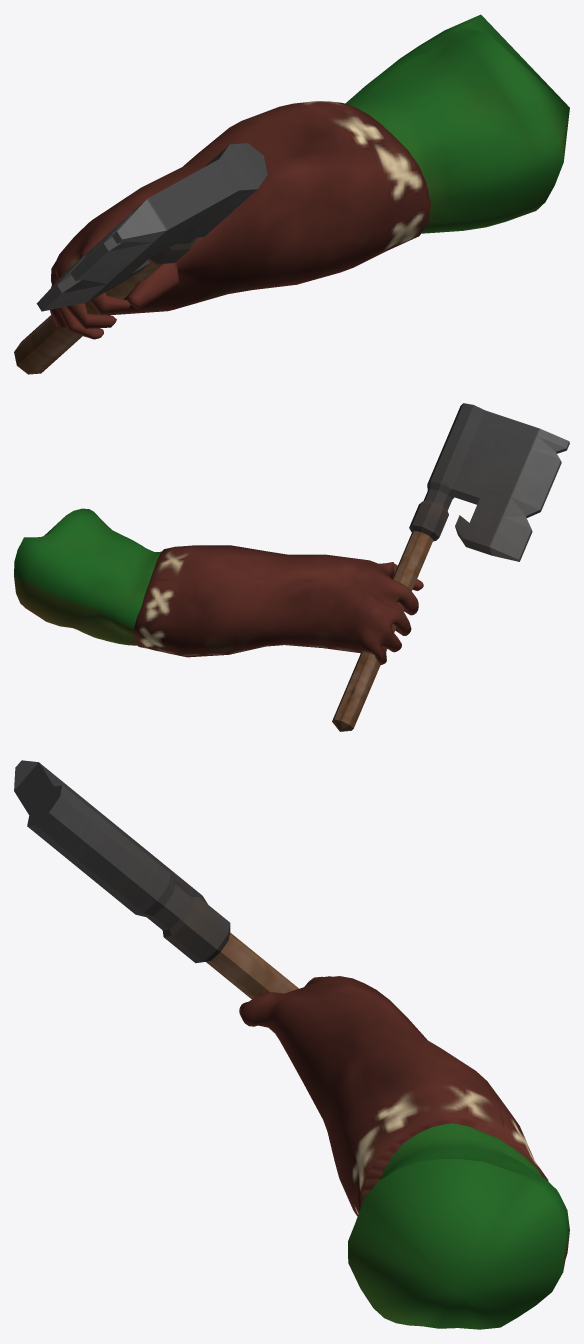
Rendered from orc_armr.obj.
3 renders of one model, top to bottom at view 1: azimuth 30°, elevation 25°; view 2: azimuth 150°, elevation 25°; view 3: azimuth 270°, elevation 25°, orthographic. The views are drawn at different scales.
Visible parts, largest first — view 1: Mesh2; view 2: Mesh2; view 3: Mesh2.
Part boxes in pixels (x1,y1,x2,y2): Mesh2: (14,14,569,374); Mesh2: (14,403,569,731); Mesh2: (14,760,569,1329).
Size of the model in its own units: 4.89 by 2.64 by 3.46.
